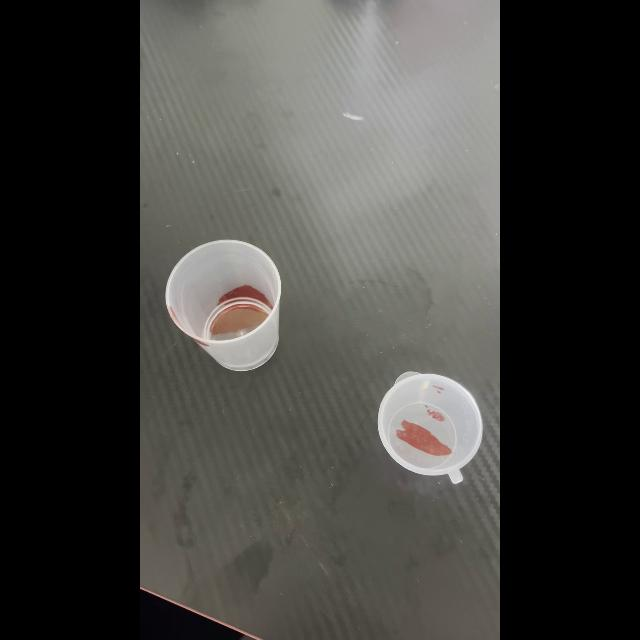dirty: (168, 240, 286, 374), (382, 369, 488, 483)
